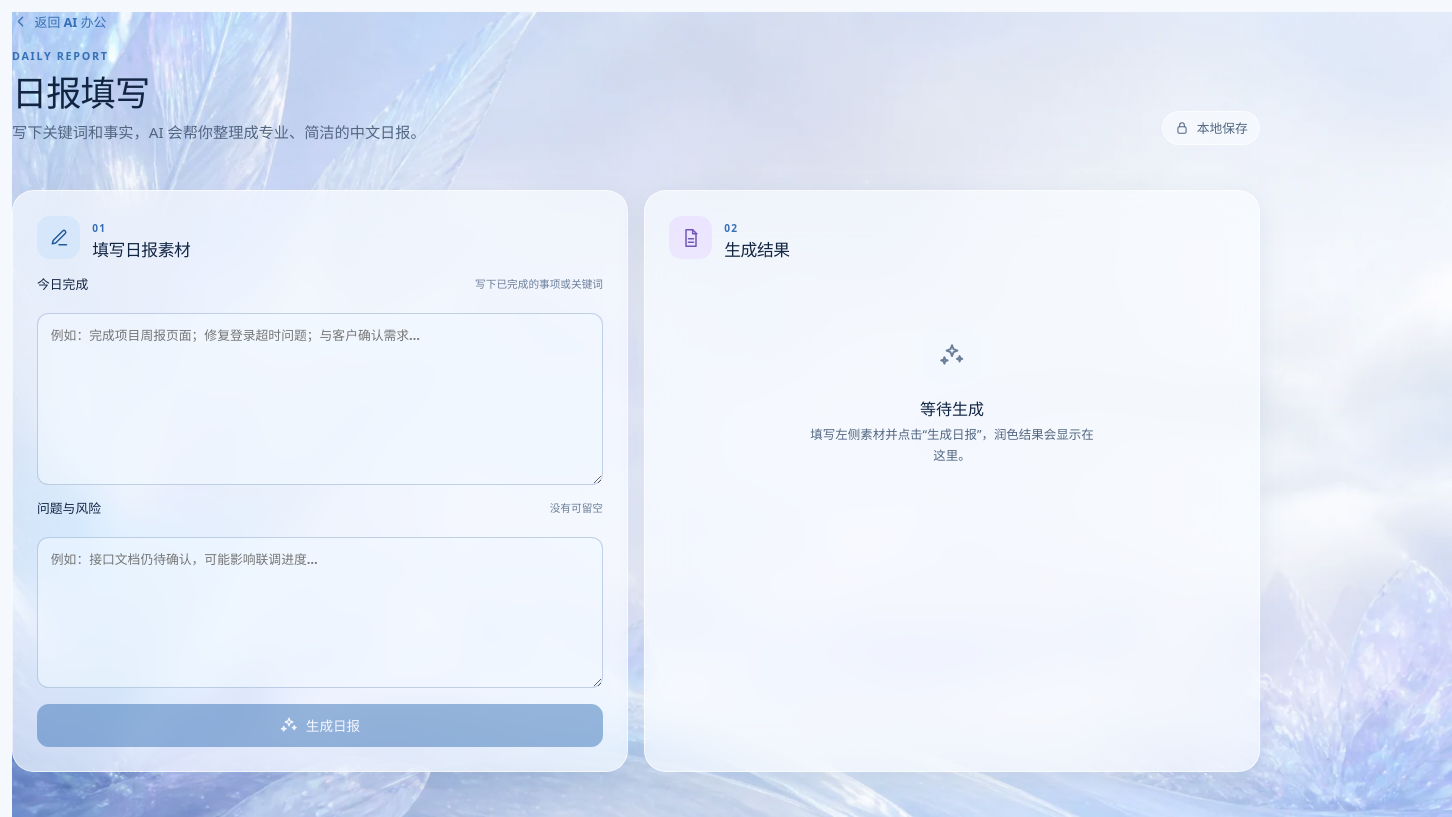
Test: AI Office daily report flow › reports clipboard failure accurately
Type "完成日报页面" into the text box labelled "今日完成" at (320, 399), box x1=37 y1=313 x2=603 y2=485
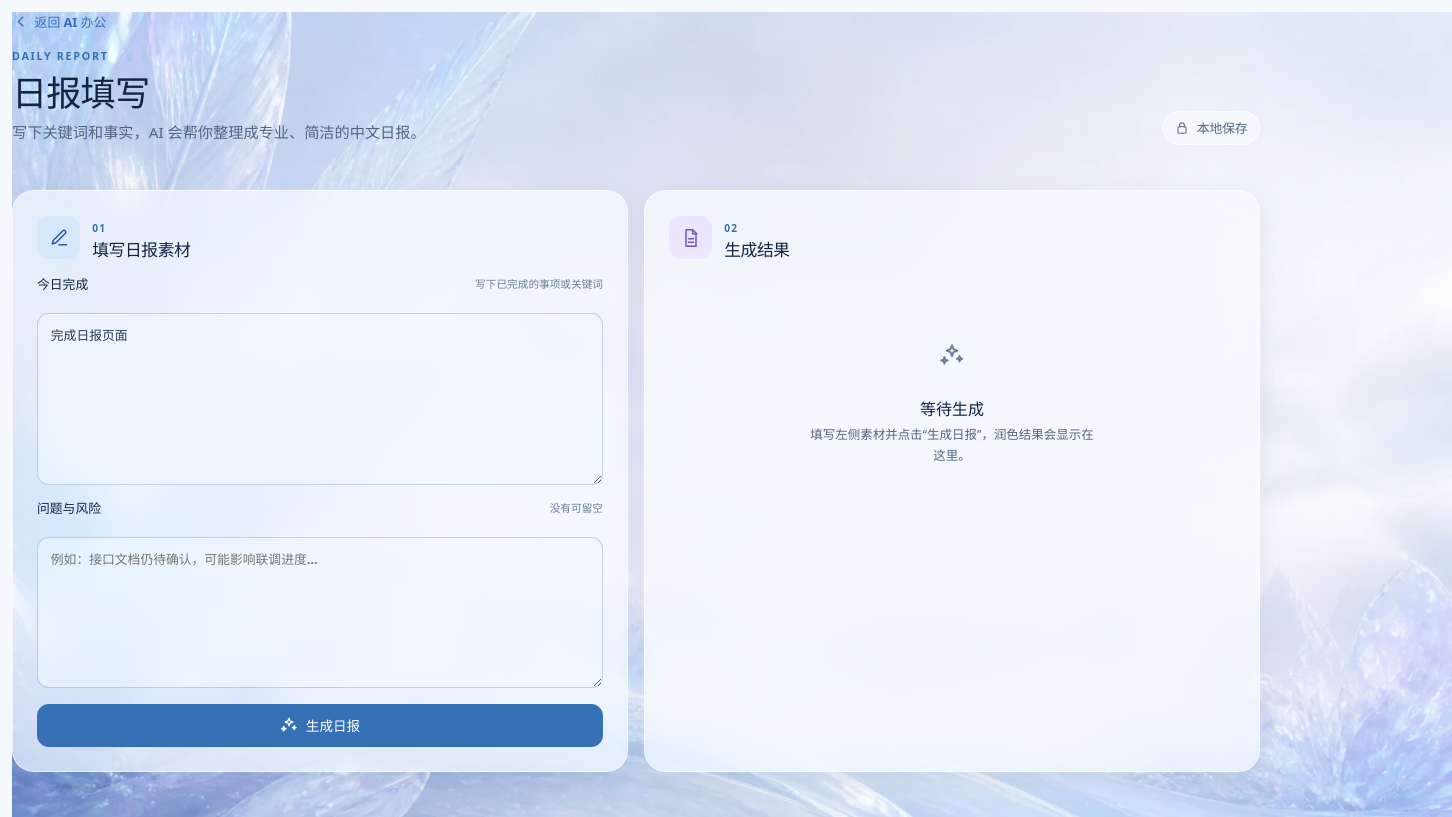
Click the button "生成日报" at (320, 725), box x1=37 y1=704 x2=603 y2=747
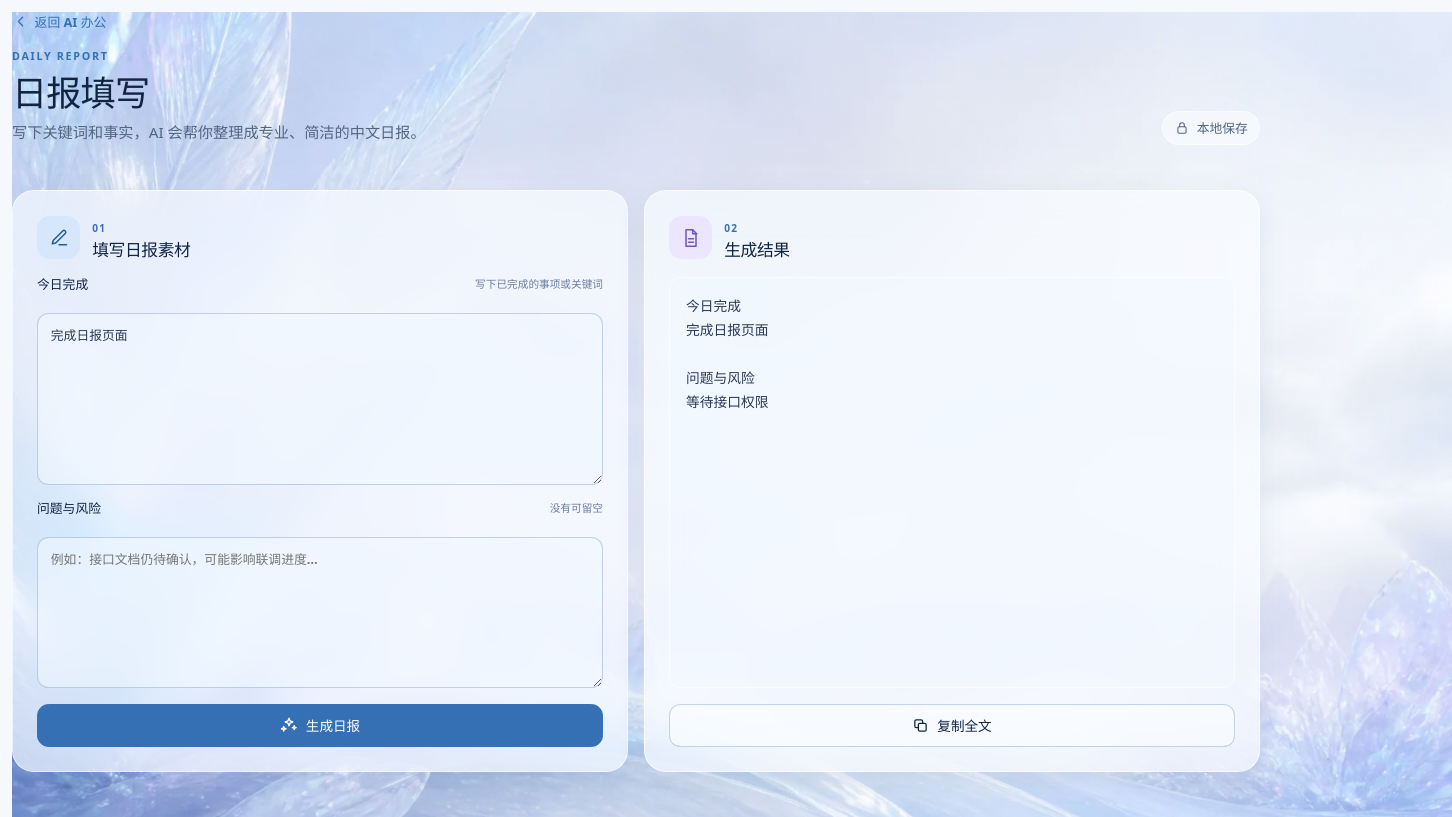
expect the button "复制全文" is shown: met
Click the button "复制全文" at (952, 725), box x1=669 y1=704 x2=1235 y2=747
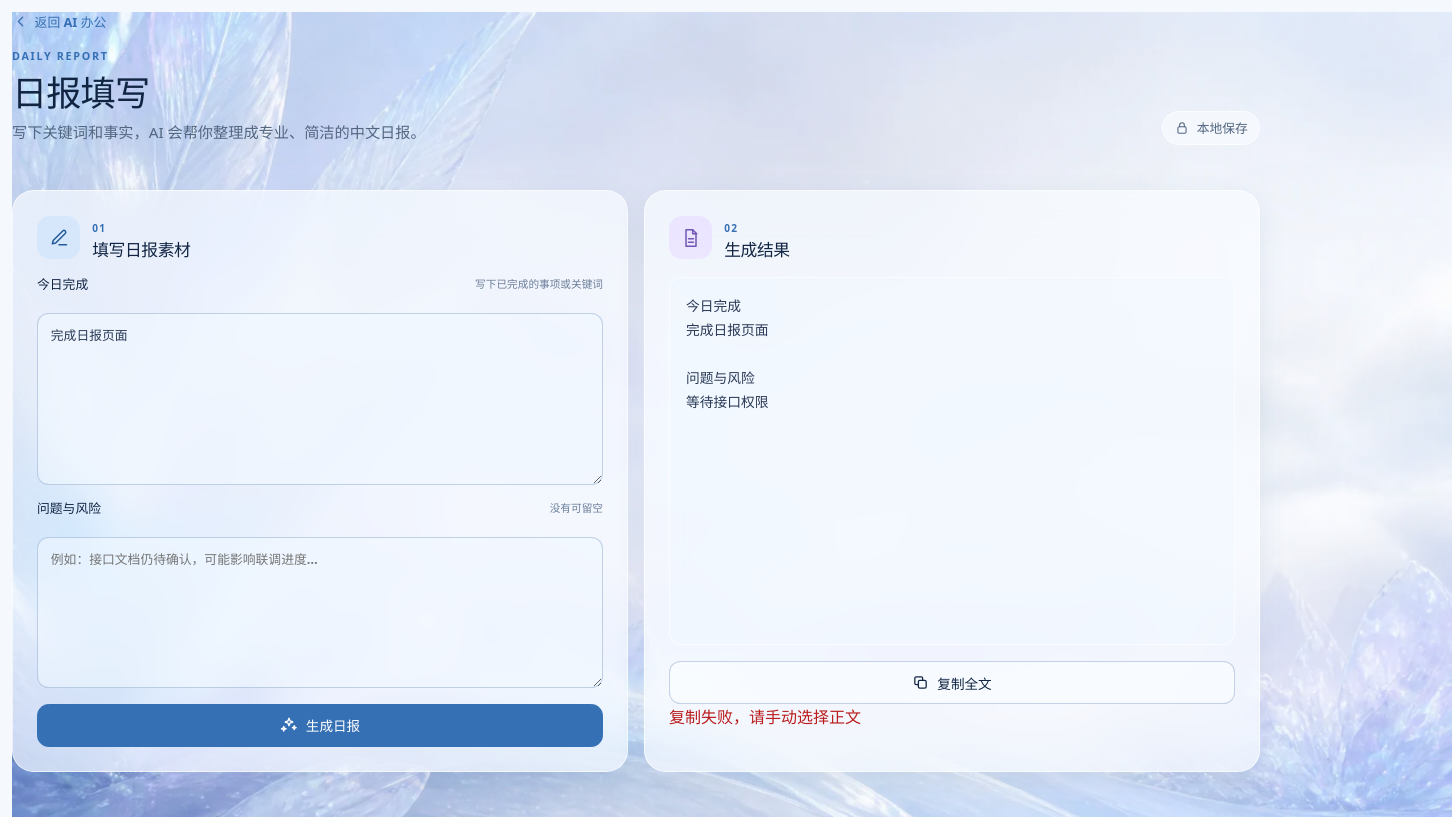
expect the message shows "复制失败": met, box x1=669 y1=706 x2=861 y2=728
